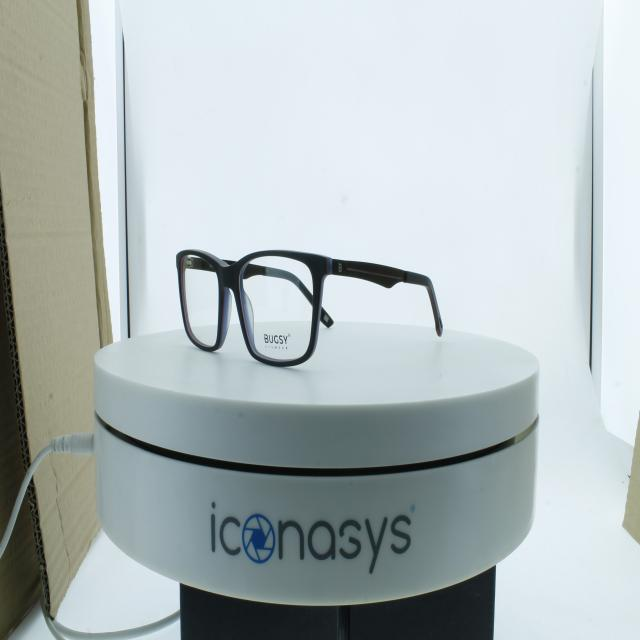Specs: (164, 222, 456, 380)
